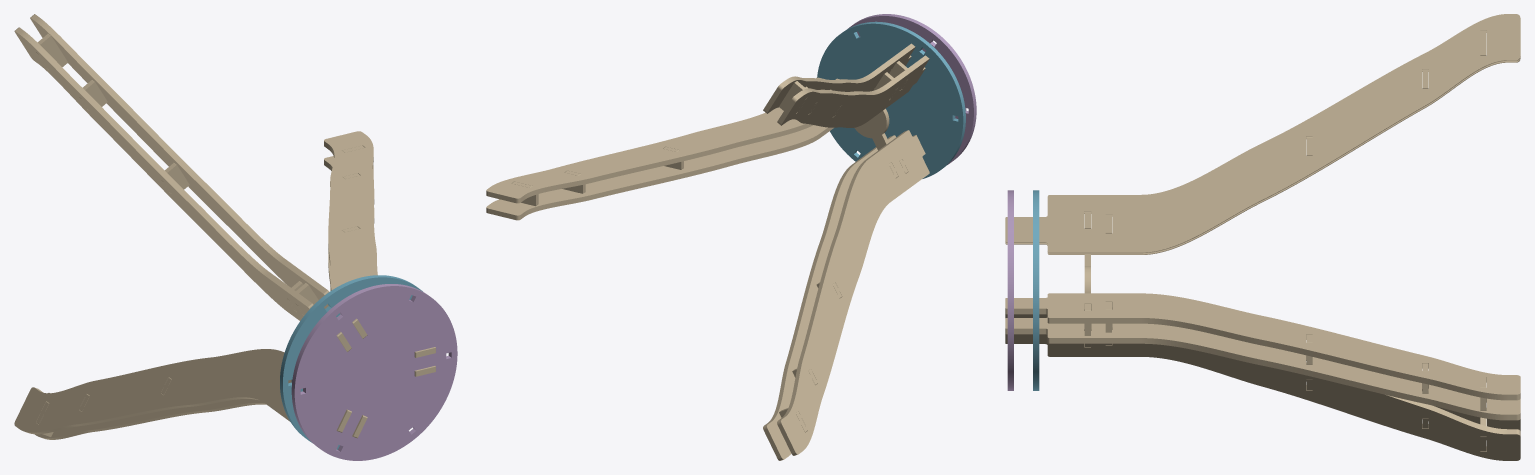
Rendered from actual-21-body-DESIGN_ONLY.glb.
3 views of the same model, side by side, from view 1: azimuth 30°, elevation 25°; view 2: azimuth 150°, elevation 25°; view 3: azimuth 270°, elevation 25° (orthographic). The views are drawn at different scales.
Parts seen in each view (by area): view 1: P04U, L3_P01_1, L1_P01_2, L2_P01_2, L2_P01_1, P04L, L3_P01_2, L2_S1; view 2: L3_P01_1, P04L, L1_P01_2, L1_P01_1, L2_P01_2, L3_P01_2, P04U, L2_P01_1, P03; view 3: L2_P01_1, L1_P01_2, L3_P01_2, L1_P01_1, P04L, P04U, L2_P01_2, L3_P01_1, P03.
Part boxes in pixels (bbox=[...]): P04U: bbox=[291, 284, 457, 460]; L3_P01_1: bbox=[14, 349, 351, 434]; L1_P01_2: bbox=[324, 131, 435, 357]; L2_P01_2: bbox=[14, 27, 351, 351]; L2_P01_1: bbox=[30, 14, 367, 338]; P04L: bbox=[280, 275, 422, 449]; L3_P01_2: bbox=[35, 393, 367, 439]; L2_S1: bbox=[36, 34, 67, 69]; L3_P01_1: bbox=[777, 130, 929, 455]; P04L: bbox=[817, 21, 965, 178]; L1_P01_2: bbox=[486, 77, 840, 203]; L1_P01_1: bbox=[486, 125, 833, 220]; L2_P01_2: bbox=[777, 55, 929, 127]; L3_P01_2: bbox=[763, 135, 895, 460]; P04U: bbox=[848, 14, 976, 164]; L2_P01_1: bbox=[763, 43, 915, 113]; P03: bbox=[854, 61, 908, 173]; L2_P01_1: bbox=[1005, 14, 1520, 253]; L1_P01_2: bbox=[1005, 293, 1520, 400]; L3_P01_2: bbox=[1005, 327, 1520, 460]; L1_P01_1: bbox=[1005, 317, 1520, 420]; P04L: bbox=[1033, 190, 1039, 390]; P04U: bbox=[1007, 190, 1013, 390]; L2_P01_2: bbox=[1005, 31, 1520, 254]; L3_P01_1: bbox=[1005, 307, 1520, 439]; P03: bbox=[1084, 211, 1090, 346].
Size of the model in its own units: 0.4047 by 0.4673 by 0.488.
